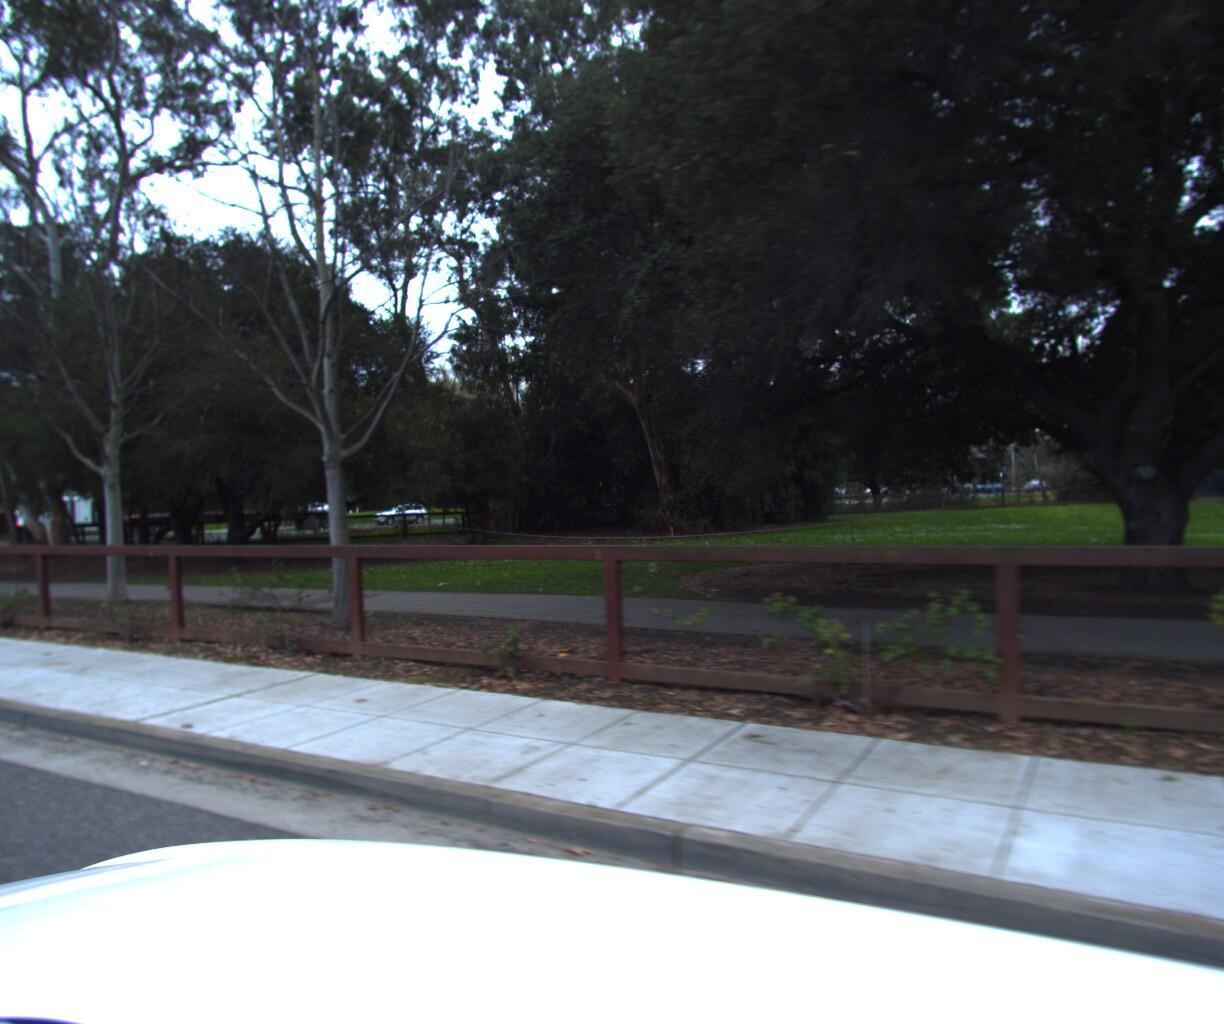truck: (0, 481, 342, 544)
